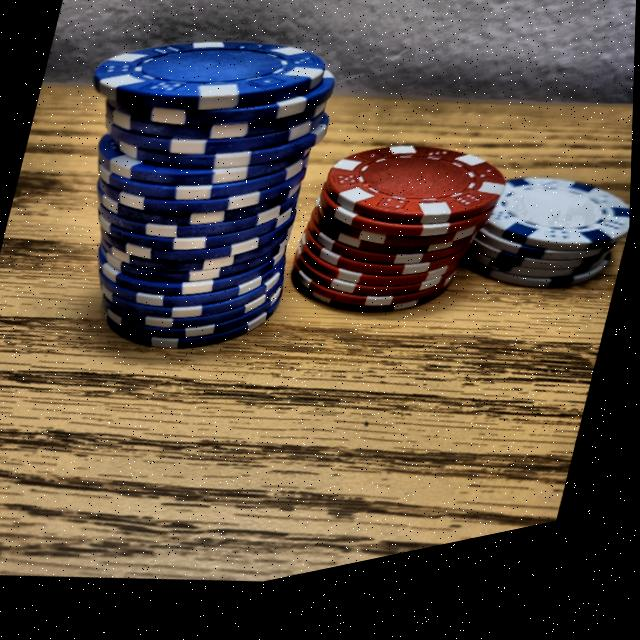Chip: (6, 0, 380, 425), (271, 101, 522, 389)
